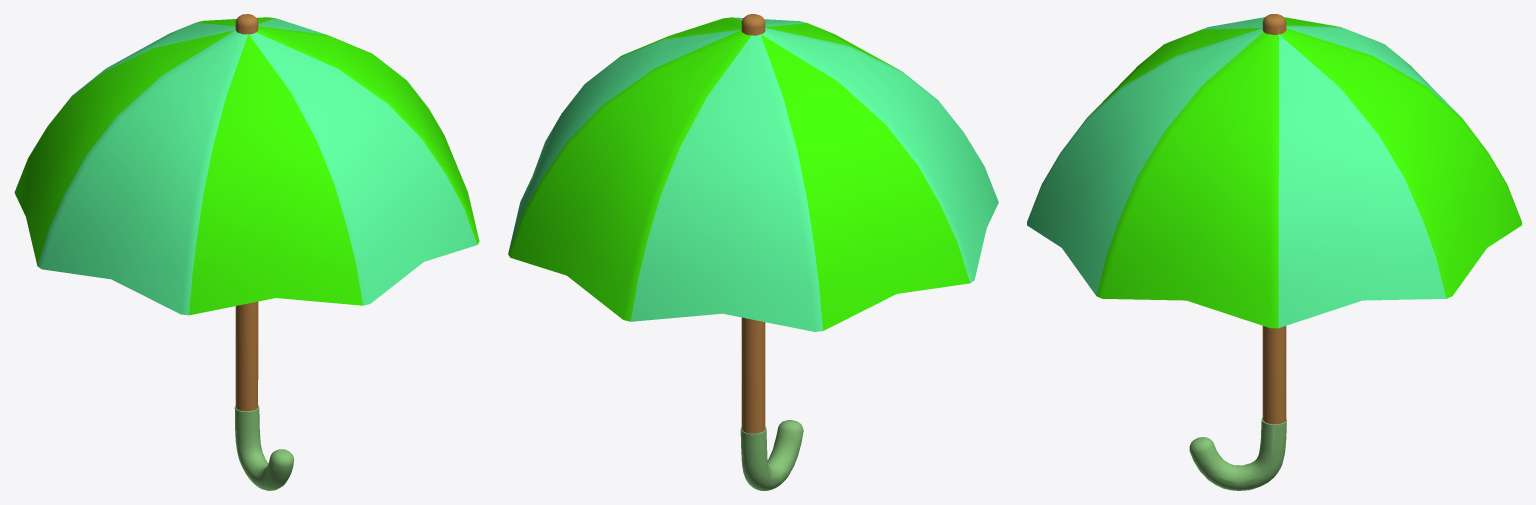
File: umbrella.glb
3 views of the same model, side by side, from view 1: azimuth 30°, elevation 25°; view 2: azimuth 150°, elevation 25°; view 3: azimuth 270°, elevation 25° (orthographic). The views are drawn at different scales.
Visible parts, largest first — view 1: Umbrella Hat New, Umbrella Stem, Umbrella Handle; view 2: Umbrella Hat New, Umbrella Stem, Umbrella Handle; view 3: Umbrella Hat New, Umbrella Handle, Umbrella Stem.
Part boxes in pixels (left/top/right/bottom): Umbrella Hat New: left=14, top=17, right=479, bottom=315; Umbrella Stem: left=235, top=14, right=258, bottom=411; Umbrella Handle: left=234, top=405, right=294, bottom=490; Umbrella Hat New: left=508, top=17, right=998, bottom=331; Umbrella Stem: left=741, top=14, right=765, bottom=433; Umbrella Handle: left=740, top=420, right=803, bottom=490; Umbrella Hat New: left=1027, top=17, right=1521, bottom=328; Umbrella Handle: left=1189, top=418, right=1286, bottom=490; Umbrella Stem: left=1262, top=14, right=1286, bottom=424.
Size of the model in its own units: 2.07 by 2.19 by 2.07.
